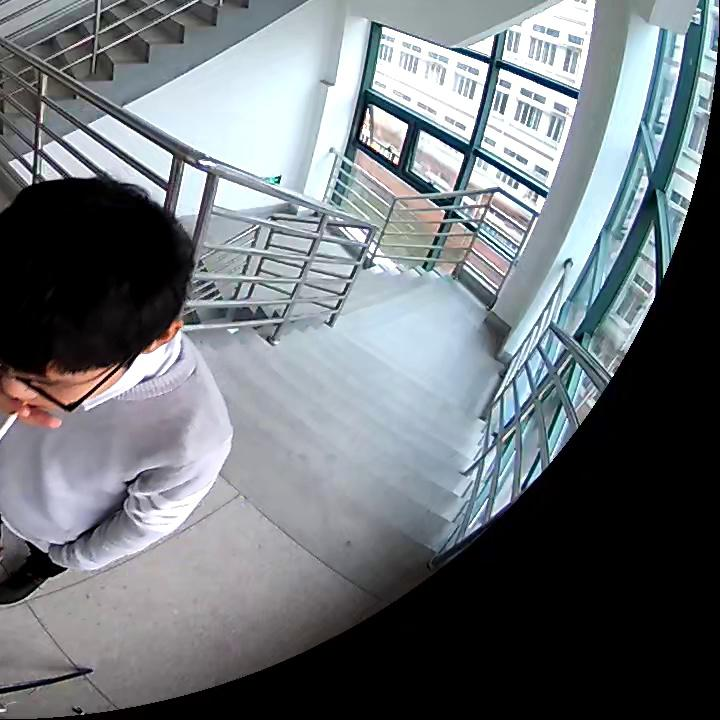mouthsmoke: (1, 175, 194, 441)
